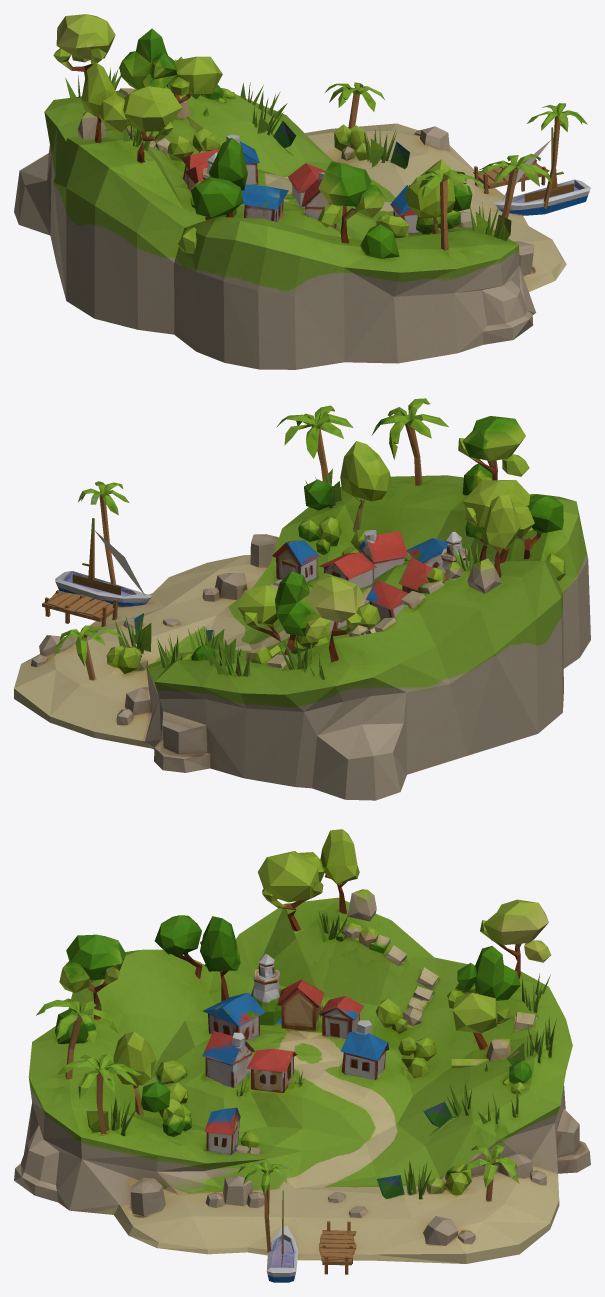
Rendered from IslandVillage.glb.
3 renders of one model, top to bottom at view 1: azimuth 30°, elevation 25°; view 2: azimuth 150°, elevation 25°; view 3: azimuth 270°, elevation 25°, orthographic. The views are drawn at different scales.
Visible parts, largest first — view 1: tripo_node_db67284b-78b6-402f-bd36-a165de47f10d; view 2: tripo_node_db67284b-78b6-402f-bd36-a165de47f10d; view 3: tripo_node_db67284b-78b6-402f-bd36-a165de47f10d.
Part boxes in pixels (<box>): tripo_node_db67284b-78b6-402f-bd36-a165de47f10d: <box>14,14,590,369</box>; tripo_node_db67284b-78b6-402f-bd36-a165de47f10d: <box>14,398,590,800</box>; tripo_node_db67284b-78b6-402f-bd36-a165de47f10d: <box>14,829,590,1282</box>.
Size of the model in its own units: 261 by 116 by 260.
Materials: 1 (1 with a texture image).
